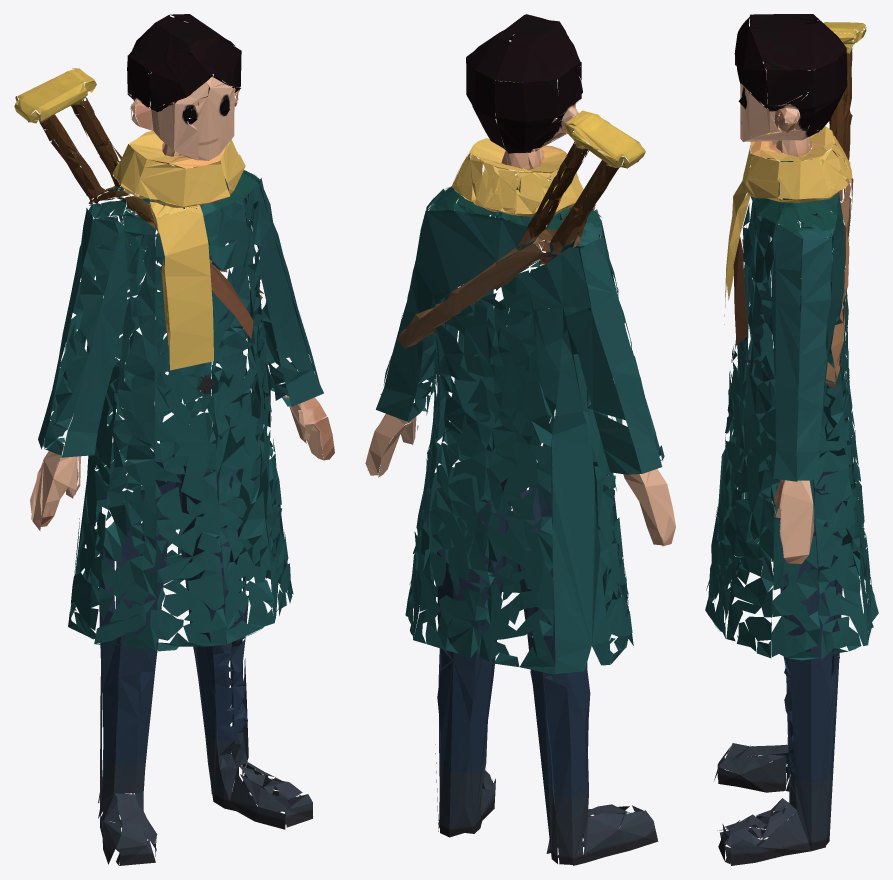
The model's file is habitant.glb.
The picture shows the model from 3 angles, left to right: view 1: azimuth 30°, elevation 25°; view 2: azimuth 150°, elevation 25°; view 3: azimuth 270°, elevation 25°; orthographic projection.
Parts seen in each view (by area): view 1: world; view 2: world; view 3: world.
Part boxes in pixels (x1,y1,x2,y2): world: (14,14,334,865); world: (365,14,675,865); world: (705,14,878,865).
Bounding box in the file's own units: 0.3907 × 1.01 × 0.1988.
1 material, 1 textured.
